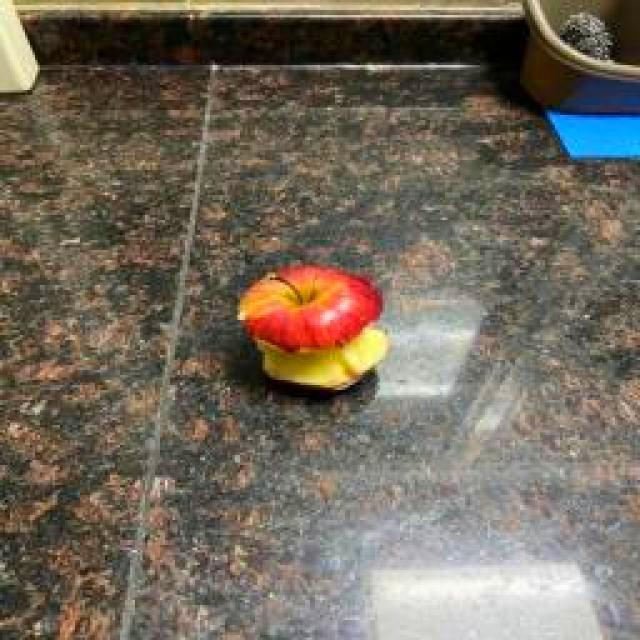Apple: (239, 264, 389, 390)
